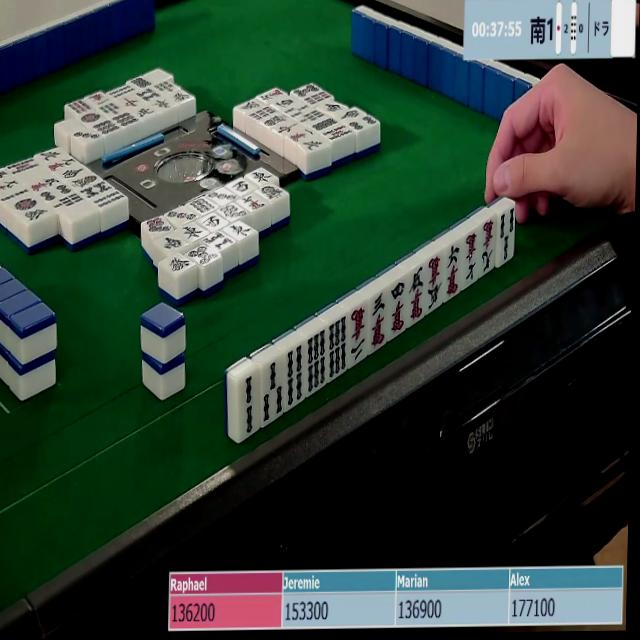2B: (237, 372, 260, 440)
2C: (348, 304, 370, 364)
3B: (259, 359, 286, 427), (496, 201, 516, 264)
3C: (365, 290, 392, 350)
4B: (282, 345, 306, 409)
4C: (386, 277, 411, 337)
5B: (6, 159, 40, 177)
5C: (406, 265, 426, 325), (426, 252, 443, 309)
6B: (304, 329, 328, 394), (327, 316, 348, 379)
6C: (446, 241, 461, 300)
7C: (461, 230, 479, 287)
8B: (74, 179, 113, 198)
9C: (480, 217, 495, 276)
